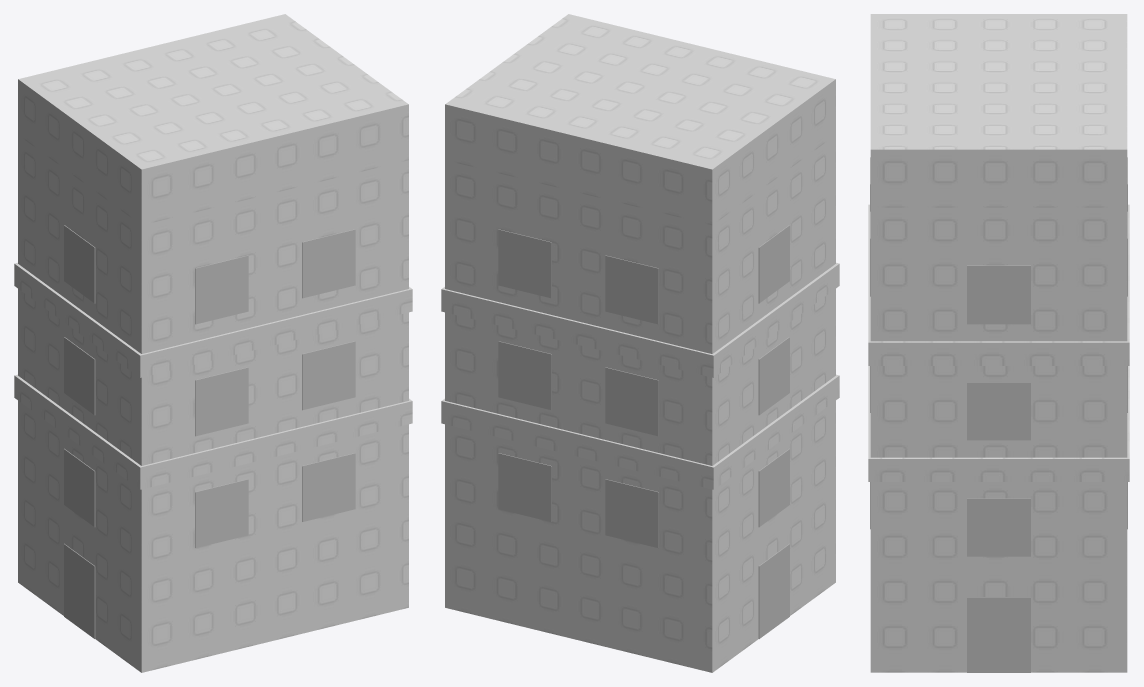
File: 3FloorA.FBX
3 views of the same model, side by side, from view 1: azimuth 30°, elevation 25°; view 2: azimuth 150°, elevation 25°; view 3: azimuth 270°, elevation 25° (orthographic). The views are drawn at different scales.
Parts seen in each view (by area): view 1: qiang, wuding, chuang, men; view 2: qiang, wuding, chuang, men; view 3: qiang, wuding, chuang, men.
Part boxes in pixels (left/top/right/bottom): qiang: left=18, top=135, right=408, bottom=672; wuding: left=14, top=14, right=412, bottom=489; chuang: left=64, top=225, right=355, bottom=548; men: left=64, top=543, right=95, bottom=638; qiang: left=445, top=135, right=835, bottom=672; wuding: left=441, top=14, right=839, bottom=489; chuang: left=498, top=225, right=789, bottom=548; men: left=758, top=543, right=789, bottom=638; qiang: left=870, top=207, right=1127, bottom=672; wuding: left=868, top=14, right=1129, bottom=481; chuang: left=870, top=157, right=1127, bottom=556; men: left=967, top=597, right=1030, bottom=672.
Size of the model in its own units: 6.55 by 11.57 by 5.24.
